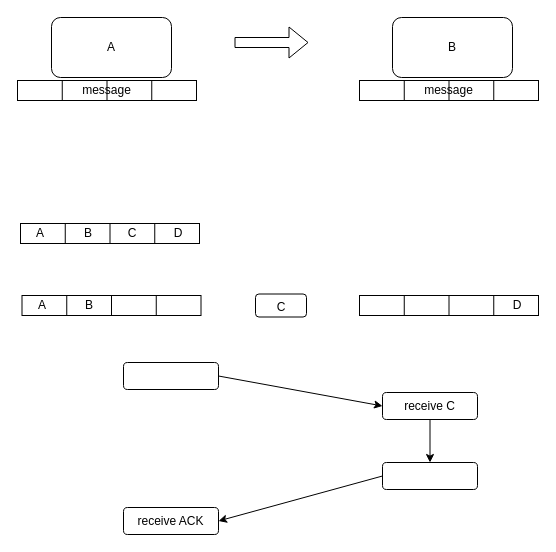
The diagram is 556 pixels wide and 552 high, and some of its shapes have lost their labels. Each missing label, with the box of its shape:
send ACK: (382, 462, 478, 490)
send C: (122, 362, 218, 390)
